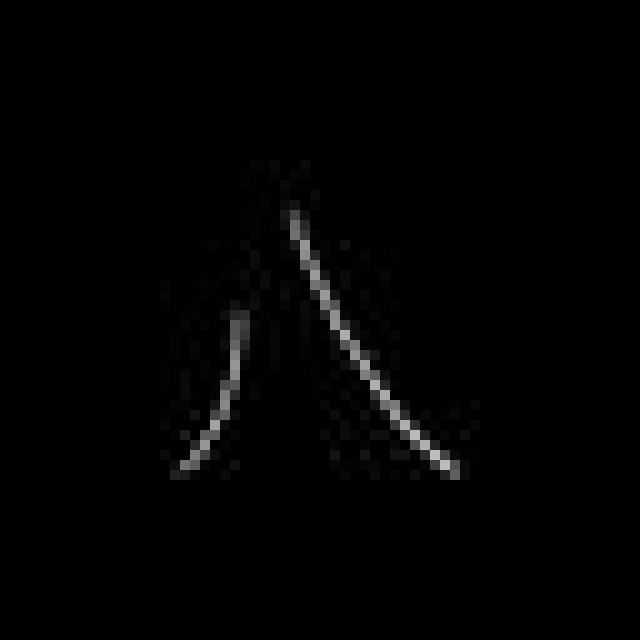8 -eight-: (167, 210, 467, 492)
